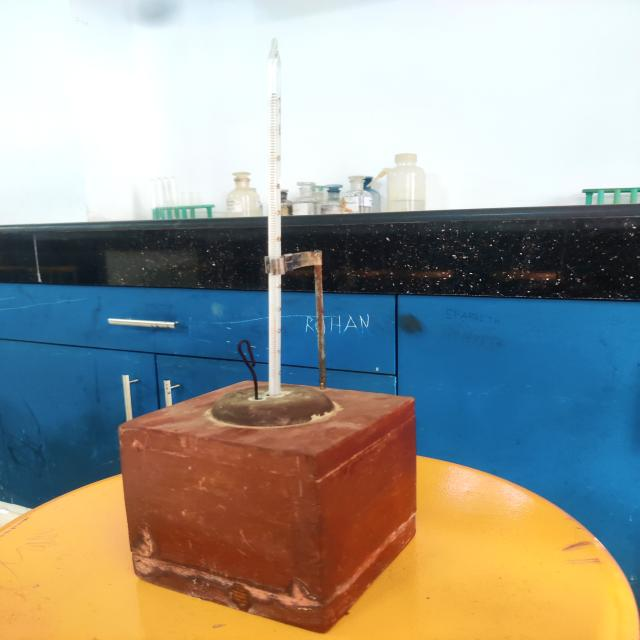Calorimeter: (81, 8, 486, 640)
